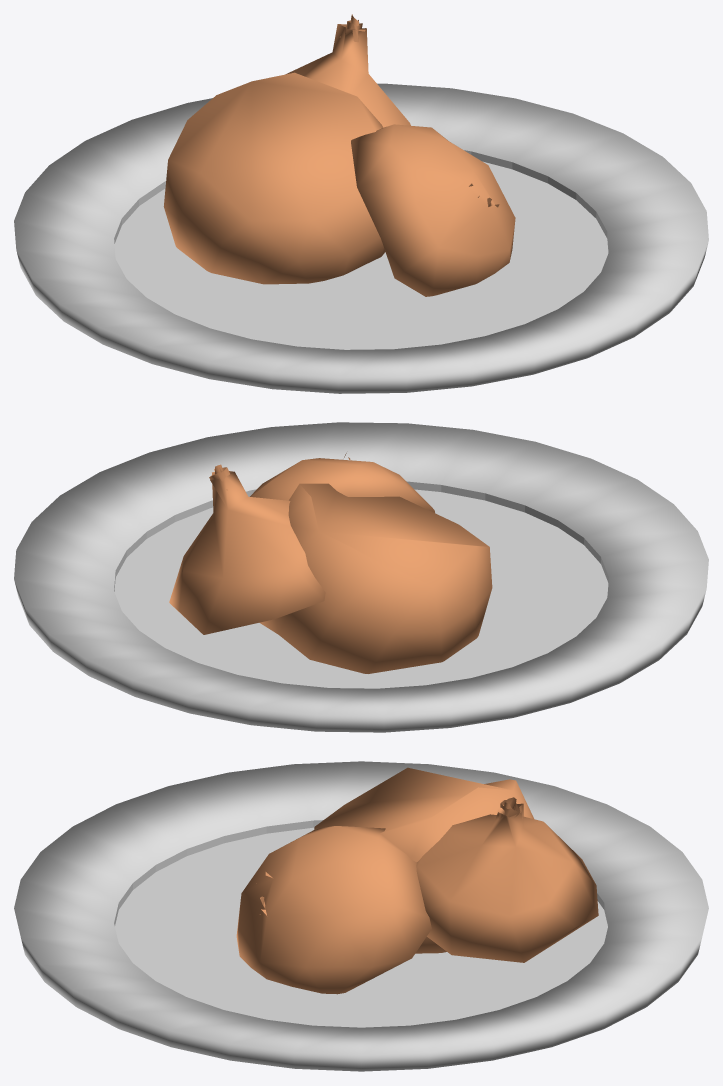
Rendered from processedOnion.fbx.
3 views of the same model, one above another, from view 1: azimuth 30°, elevation 25°; view 2: azimuth 150°, elevation 25°; view 3: azimuth 270°, elevation 25° (orthographic).
Parts seen in each view (by area): view 1: onion; view 2: onion; view 3: onion.
Boxes of the visible parts, left/top/right/bottom form: onion: left=14, top=14, right=708, bottom=393; onion: left=14, top=422, right=708, bottom=732; onion: left=14, top=761, right=708, bottom=1071.
Size of the model in its own units: 178 by 55.11 by 178.
